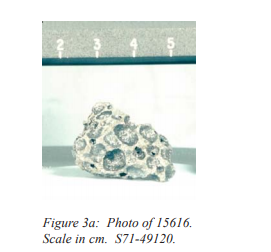Basalt: (64, 92, 180, 184)
